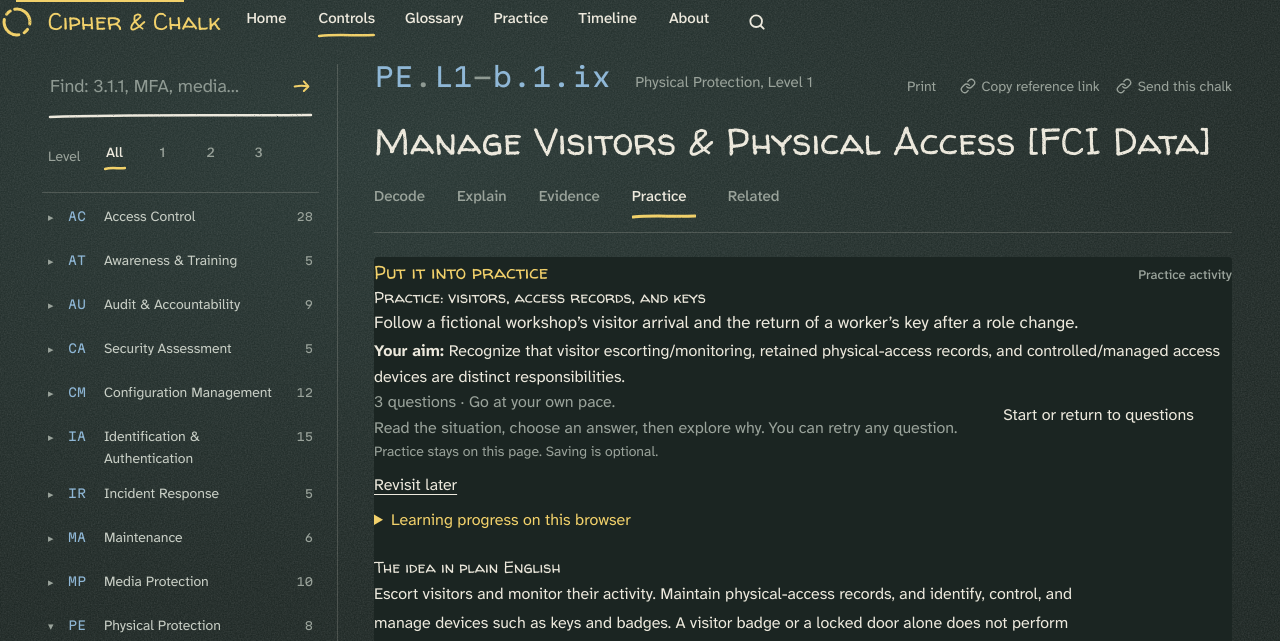
Test: Control views › offers its views and keeps the practice on its own view for level-one-visitors-and-keys
Expected: the heading "Manage Visitors & Physical Access [FCI Data]" is shown, [374,122,1232,160]
Expected: the heading "Practice: visitors, access records, and keys" is shown, [374,287,706,307]
What coordinates should you click on to do the following:
click the link "Decode"
I would click on:
 (399, 196)
Its box is [374,186,425,206].
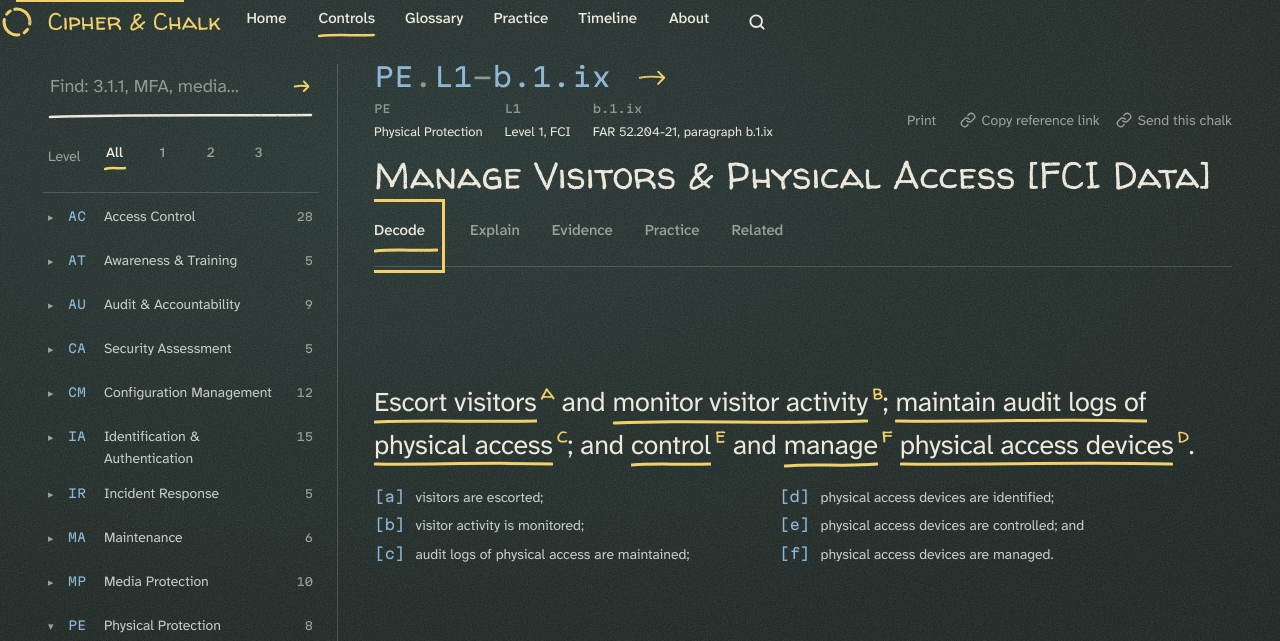
Now the heading "Practice: visitors, access records, and keys" is gone
